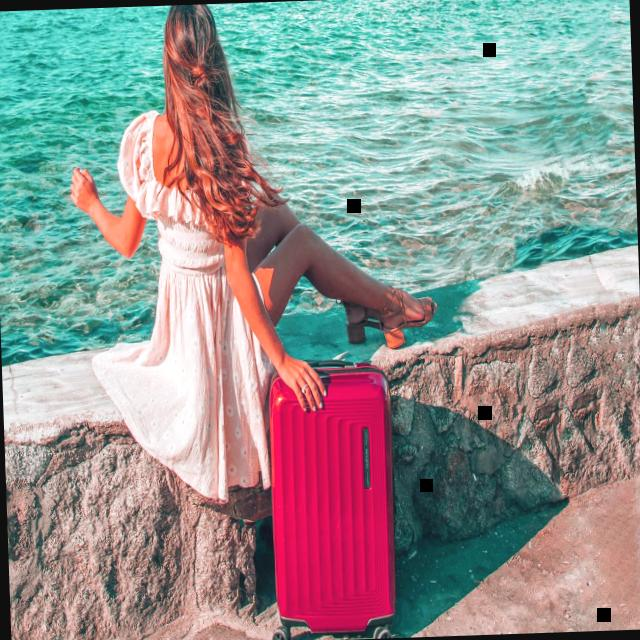luggage: (261, 354, 402, 640)
